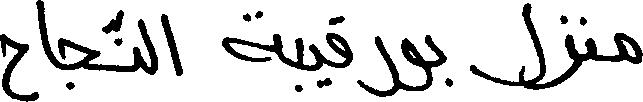X: (470, 0, 546, 94), (222, 6, 281, 66), (359, 31, 397, 101), (548, 10, 578, 92), (59, 33, 98, 94), (0, 29, 28, 101), (327, 11, 351, 90), (402, 30, 430, 95), (161, 9, 181, 80), (37, 0, 51, 101), (616, 28, 642, 68), (141, 14, 156, 79), (432, 36, 445, 87), (311, 39, 322, 92), (296, 33, 303, 96), (133, 15, 139, 76), (587, 33, 595, 65)
